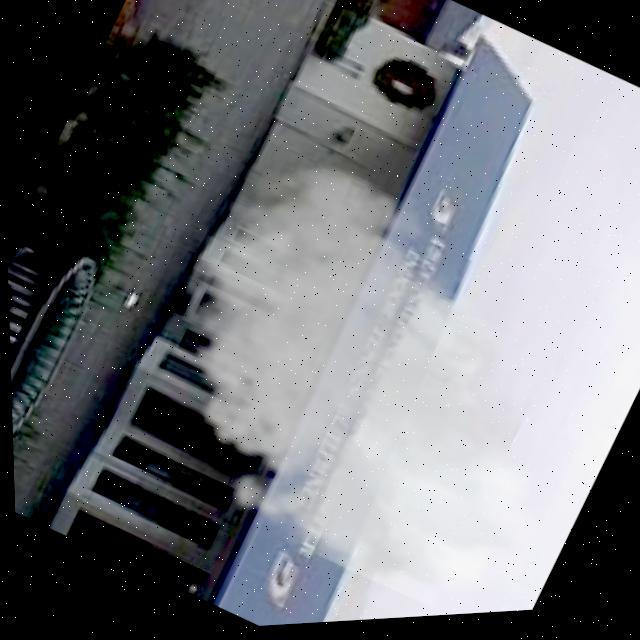Smoke: (77, 119, 640, 622)
